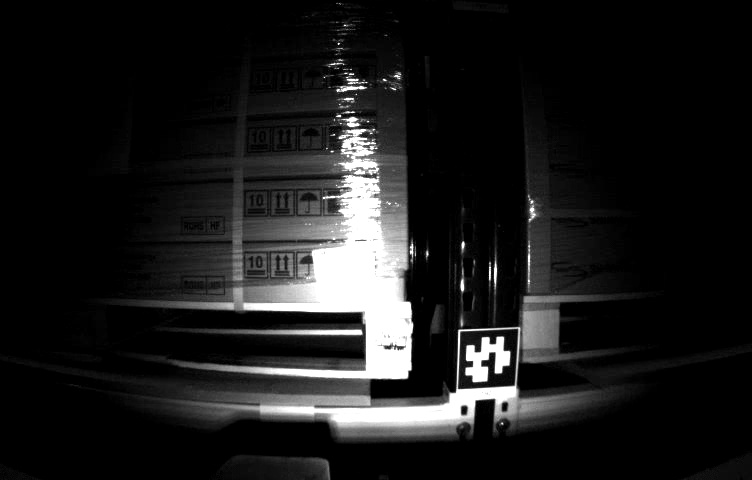True Barcode: (313, 244, 382, 303)
